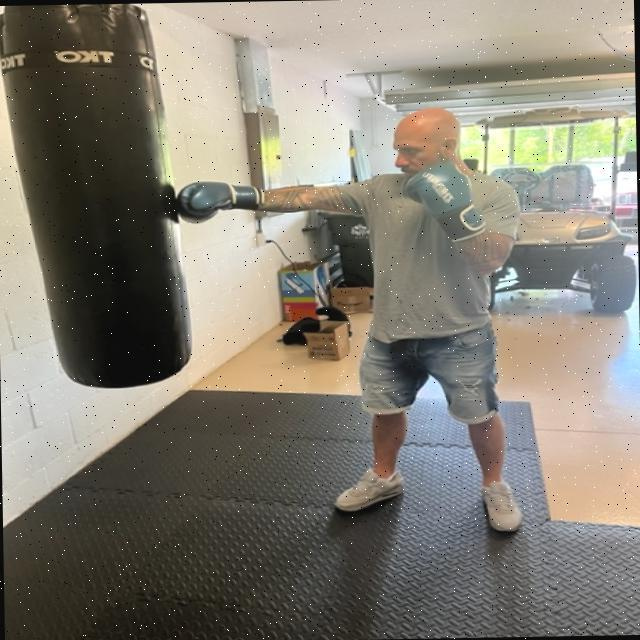jab: (134, 90, 526, 284)
